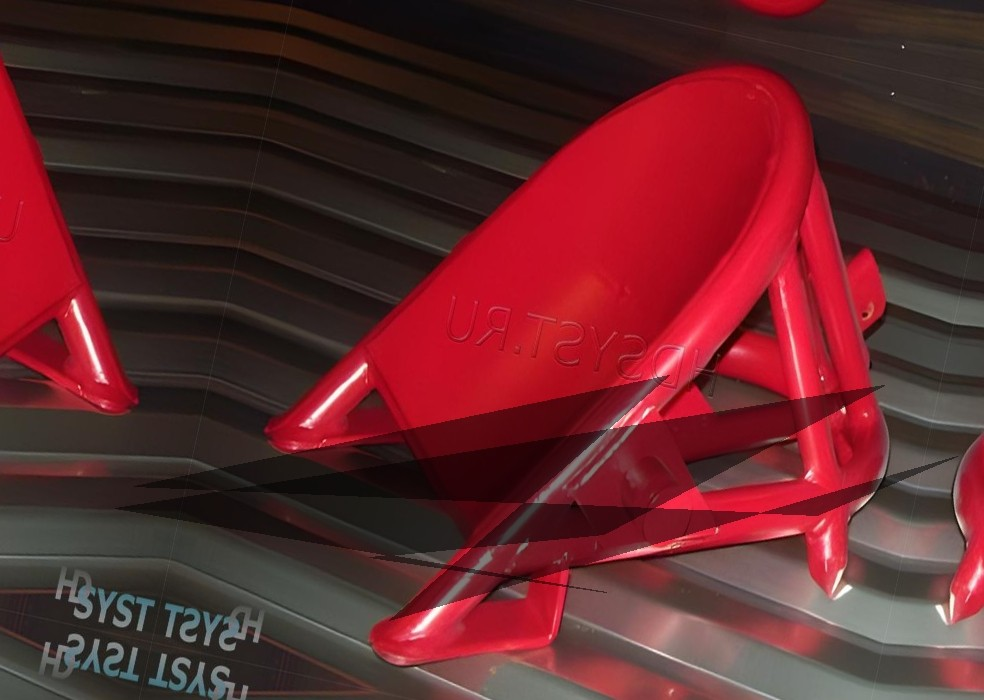chock: (214, 0, 984, 700)
